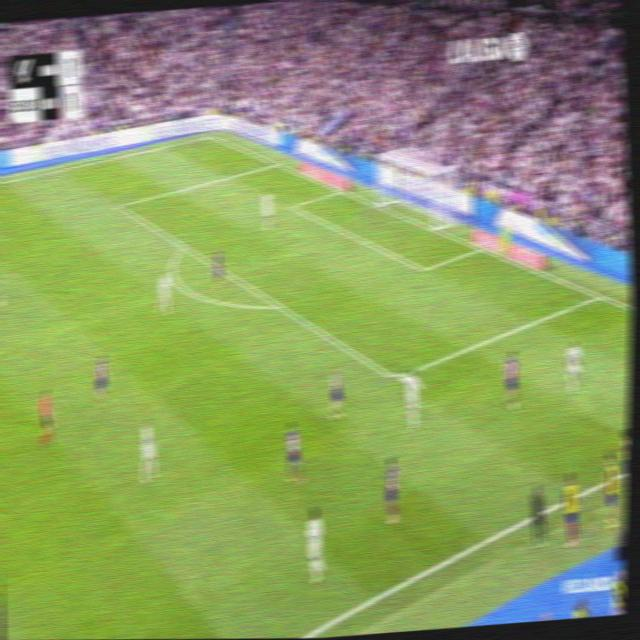bigarea_bottom_inner: (386, 364, 402, 389)
bigarea_bottom_outter: (592, 286, 604, 303)
bigarea_top_inner: (112, 196, 125, 213)
bigarea_top_outter: (270, 156, 281, 168)
bottom_arc_area_intersection: (271, 295, 285, 315)
corner: (203, 129, 215, 140)
smallarea_bottom_inner: (417, 258, 429, 278)
smallarea_top_inner: (285, 199, 296, 212)
top_arc_area_intersection: (177, 237, 189, 253)
